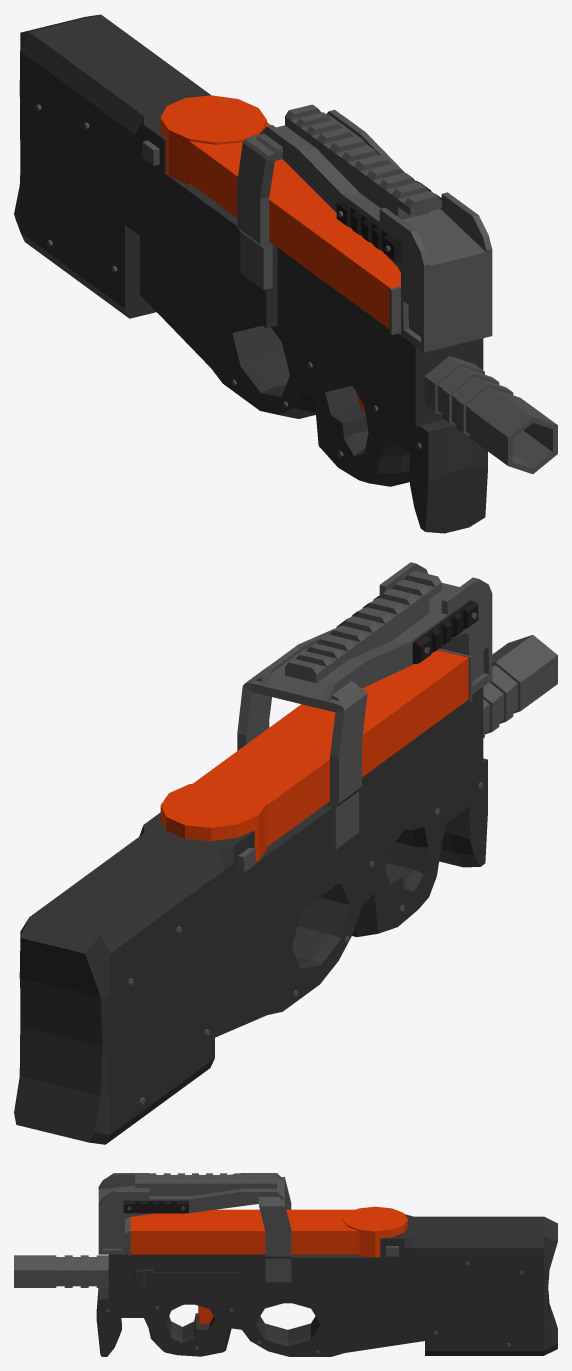
3 renders of one model, top to bottom at view 1: azimuth 30°, elevation 25°; view 2: azimuth 150°, elevation 25°; view 3: azimuth 270°, elevation 25°, orthographic. The views are drawn at different scales.
Parts seen in each view (by area): view 1: Cube.005; view 2: Cube.005; view 3: Cube.005.
Part boxes in pixels (x1=…): Cube.005: x1=14, y1=14, x2=557, y2=533; Cube.005: x1=14, y1=562, x2=557, y2=1144; Cube.005: x1=14, y1=1173, x2=557, y2=1356.
Size of the model in its own units: 204 by 600 by 1667.
